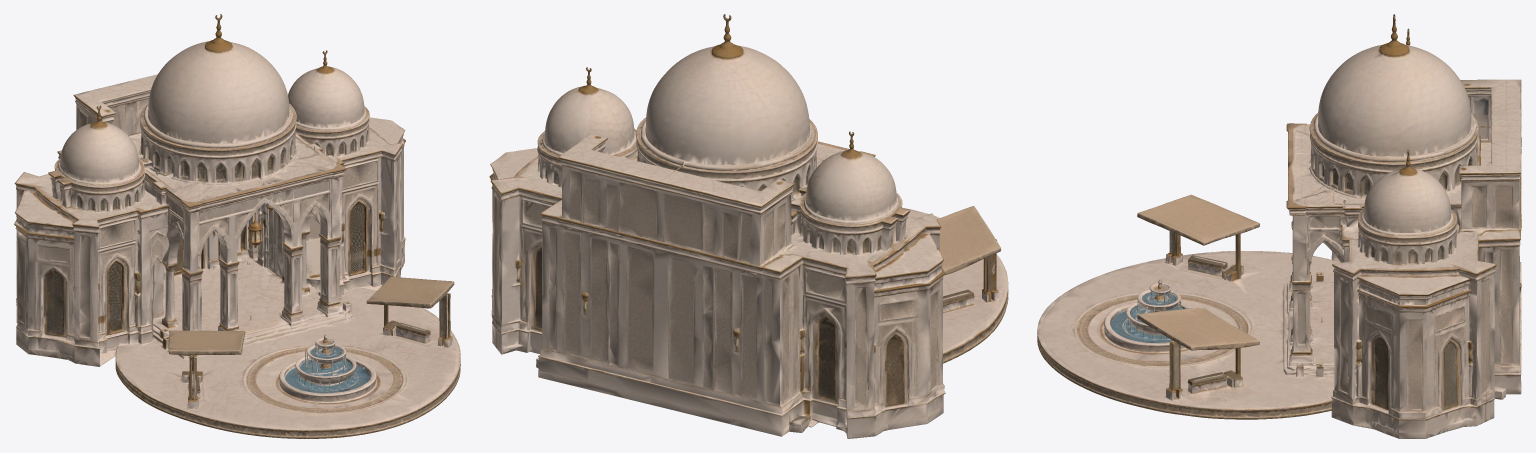
Rendered from community.glb.
3 renders of one model, left to right at view 1: azimuth 30°, elevation 25°; view 2: azimuth 150°, elevation 25°; view 3: azimuth 270°, elevation 25°, orthographic. The views are drawn at different scales.
Parts seen in each view (by area): view 1: Mesh_0; view 2: Mesh_0; view 3: Mesh_0.
Part boxes in pixels (bbox=[...]): Mesh_0: bbox=[14, 14, 460, 438]; Mesh_0: bbox=[489, 14, 1008, 438]; Mesh_0: bbox=[1037, 14, 1521, 438].
Size of the model in its own units: 44.6 by 33.6 by 44.99.
Materials: 1 (1 with a texture image).
